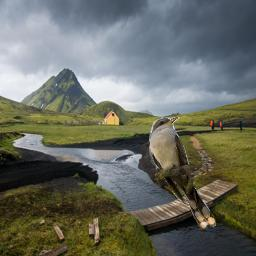Cuckoo: (149, 117, 216, 229)
